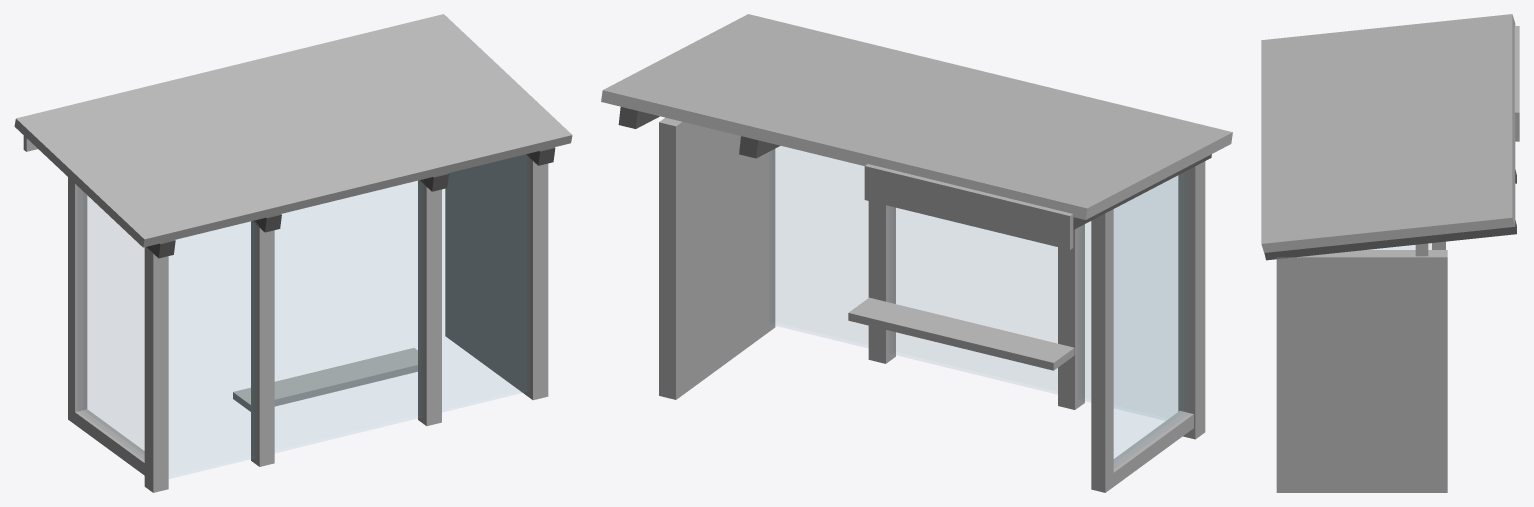
The model's file is Bus_stop_01_SkF.fbx.
3 views of the same model, side by side, from view 1: azimuth 30°, elevation 25°; view 2: azimuth 150°, elevation 25°; view 3: azimuth 270°, elevation 25° (orthographic). The views are drawn at different scales.
Visible parts, largest first — view 1: Bus_Stop_01, Bus_Stop_01_glass; view 2: Bus_Stop_01, Bus_Stop_01_glass; view 3: Bus_Stop_01.
Boxes of the visible parts, box(x1,y1,x2,y2) form: Bus_Stop_01: box(14, 14, 572, 492); Bus_Stop_01_glass: box(84, 155, 527, 478); Bus_Stop_01: box(601, 14, 1232, 492); Bus_Stop_01_glass: box(771, 146, 1183, 462); Bus_Stop_01: box(1261, 14, 1519, 492).
Size of the model in its own units: 382 by 247 by 204.
Materials: 2 (1 with a texture image).
